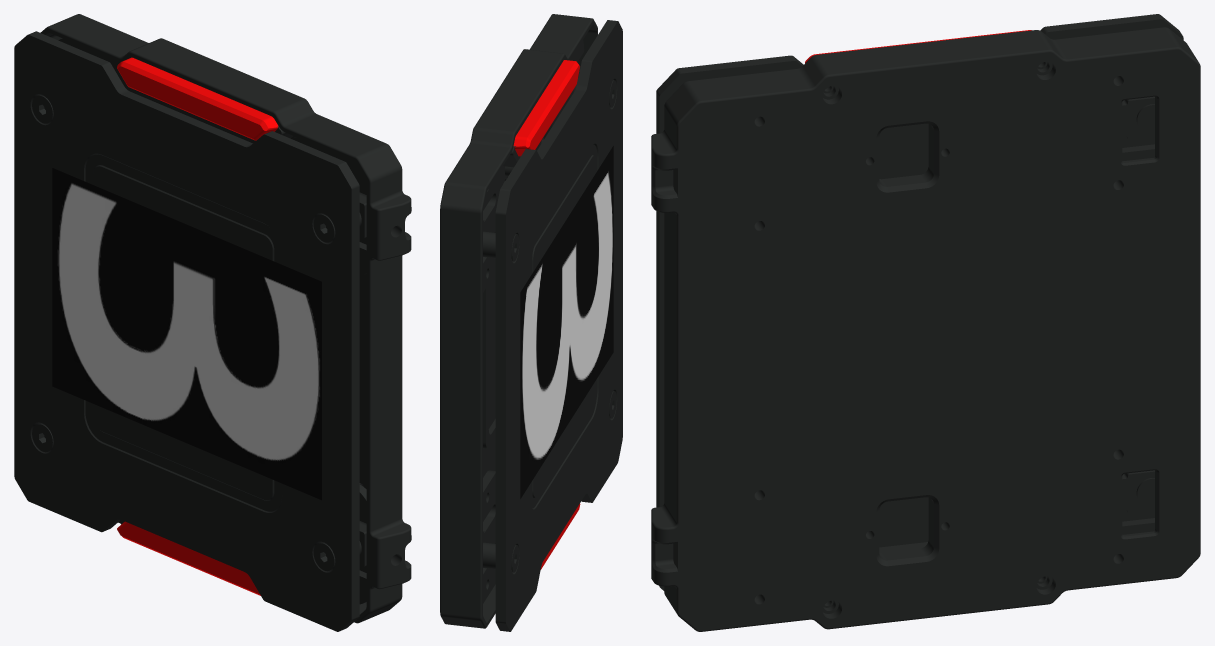
File: armor.glb
3 renders of one model, left to right at view 1: azimuth 30°, elevation 25°; view 2: azimuth 150°, elevation 25°; view 3: azimuth 270°, elevation 25°, orthographic. The views are drawn at different scales.
Parts seen in each view (by area): view 1: RoboMaster 小装甲模块 AM02 2020.STEP-1, Snipaste_2025-12-29_12-43-54; view 2: RoboMaster 小装甲模块 AM02 2020.STEP-1, Snipaste_2025-12-29_12-43-54; view 3: RoboMaster 小装甲模块 AM02 2020.STEP-1.
Boxes of the visible parts, box(x1,y1,x2,y2) form: RoboMaster 小装甲模块 AM02 2020.STEP-1: box(14, 14, 411, 631); Snipaste_2025-12-29_12-43-54: box(52, 168, 321, 500); RoboMaster 小装甲模块 AM02 2020.STEP-1: box(440, 14, 622, 631); Snipaste_2025-12-29_12-43-54: box(520, 146, 613, 498); RoboMaster 小装甲模块 AM02 2020.STEP-1: box(651, 14, 1200, 631).
Size of the model in its own units: 0.0513 by 0.141 by 0.1266.
Materials: 3 (1 with a texture image).
